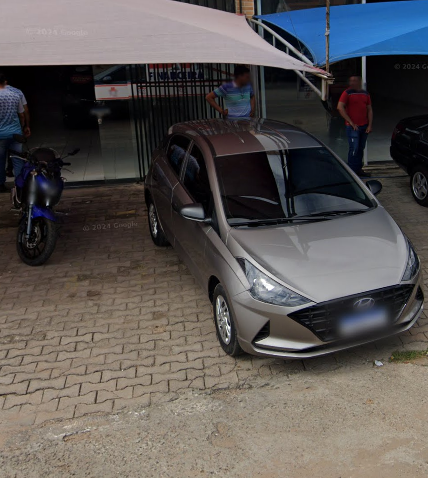car: (135, 109, 427, 370)
